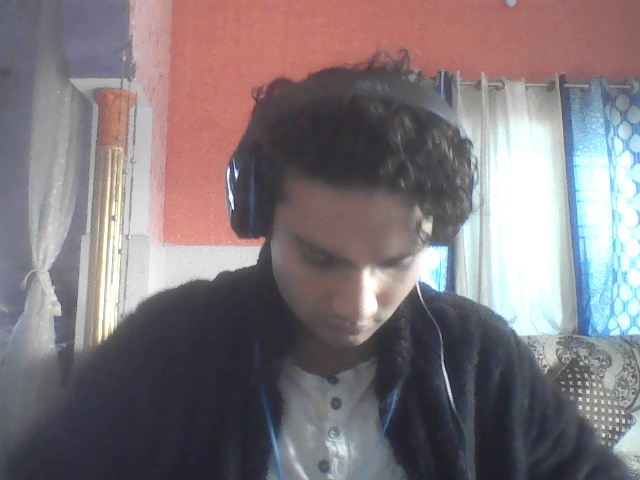real: (244, 114, 426, 372)
